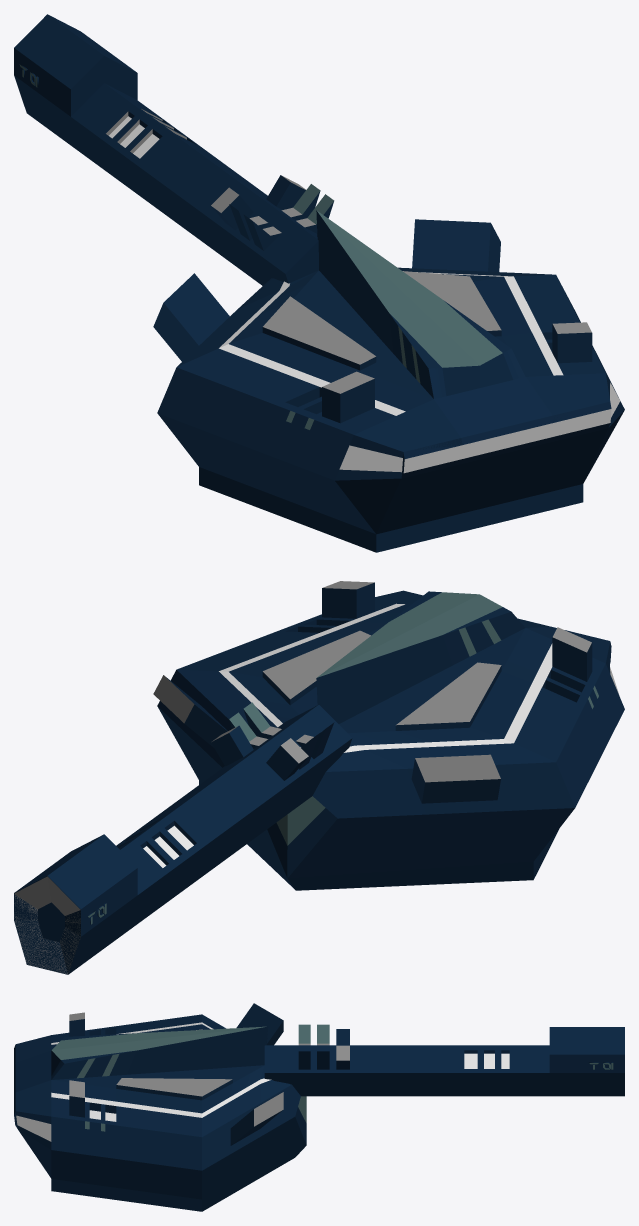
The model's file is Main_Charectar_Turret_V.2.fbx.
3 renders of one model, top to bottom at view 1: azimuth 30°, elevation 25°; view 2: azimuth 150°, elevation 25°; view 3: azimuth 270°, elevation 25°, orthographic. The views are drawn at different scales.
Visible parts, largest first — view 1: Rail Gun; view 2: Rail Gun; view 3: Rail Gun.
Boxes of the visible parts, x1,y1,x2,y2 form: Rail Gun: (14,14,624,552); Rail Gun: (14,581,624,974); Rail Gun: (14,1003,624,1211).
Bounding box in the file's own units: 594 × 268 × 1133.
